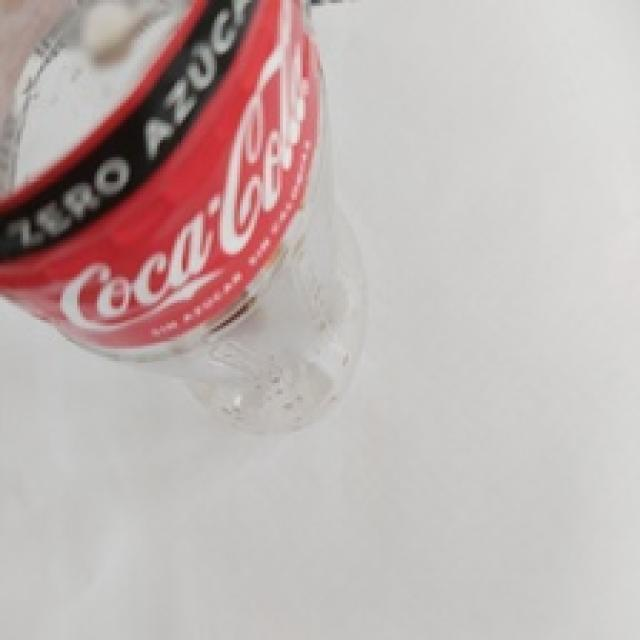Plastic: (0, 0, 374, 438)
